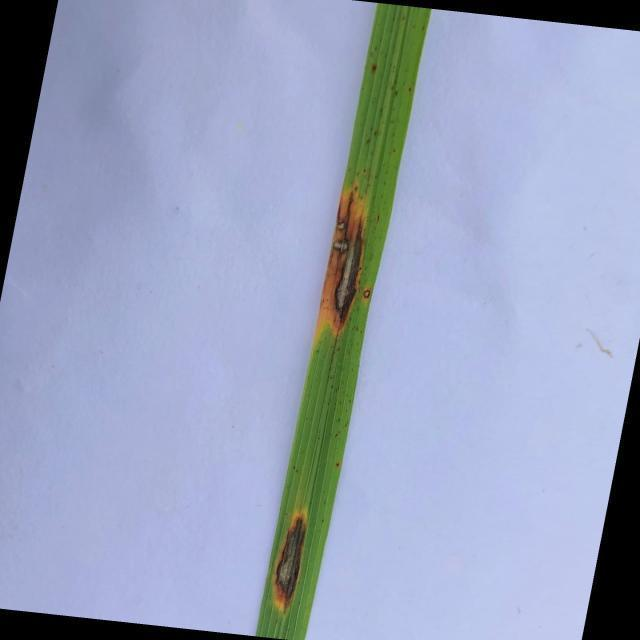Leaf_Blast: (333, 213, 367, 333)
